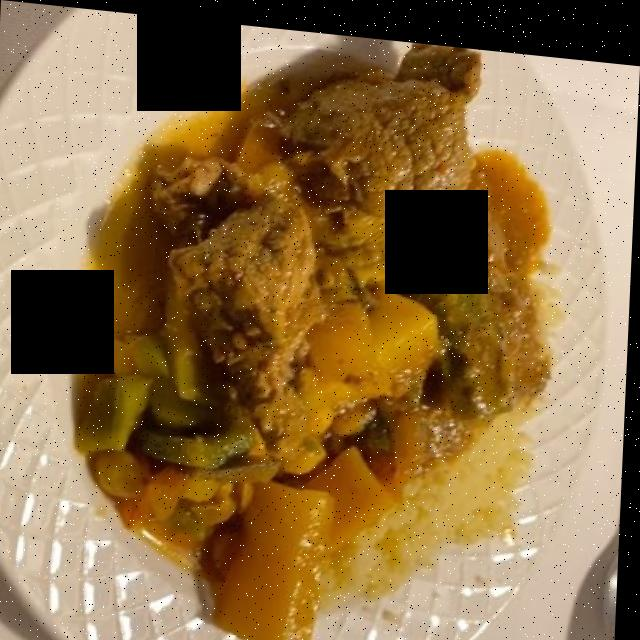mixed-vegetables: (89, 279, 513, 638)
